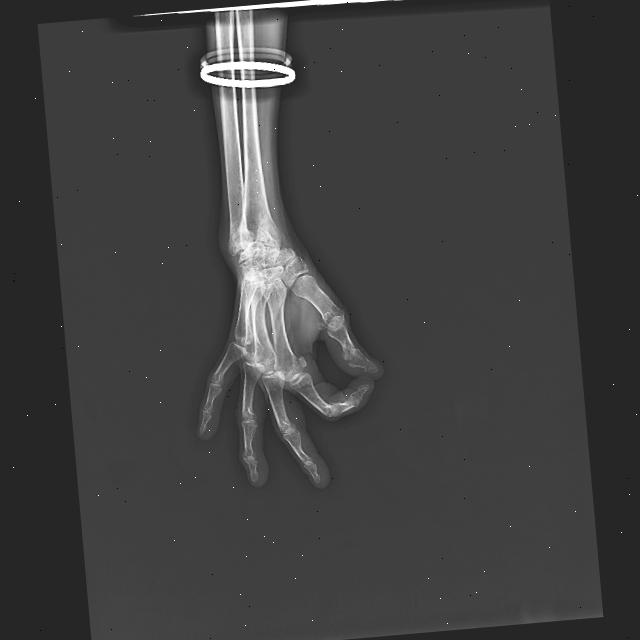Fracture: (224, 224, 283, 274)
